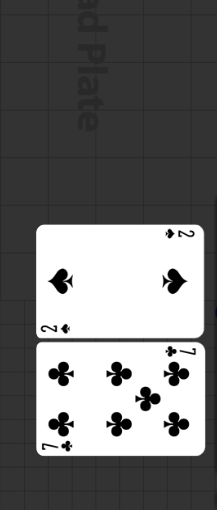2S: (40, 322, 73, 335)
7C: (41, 438, 76, 453)
